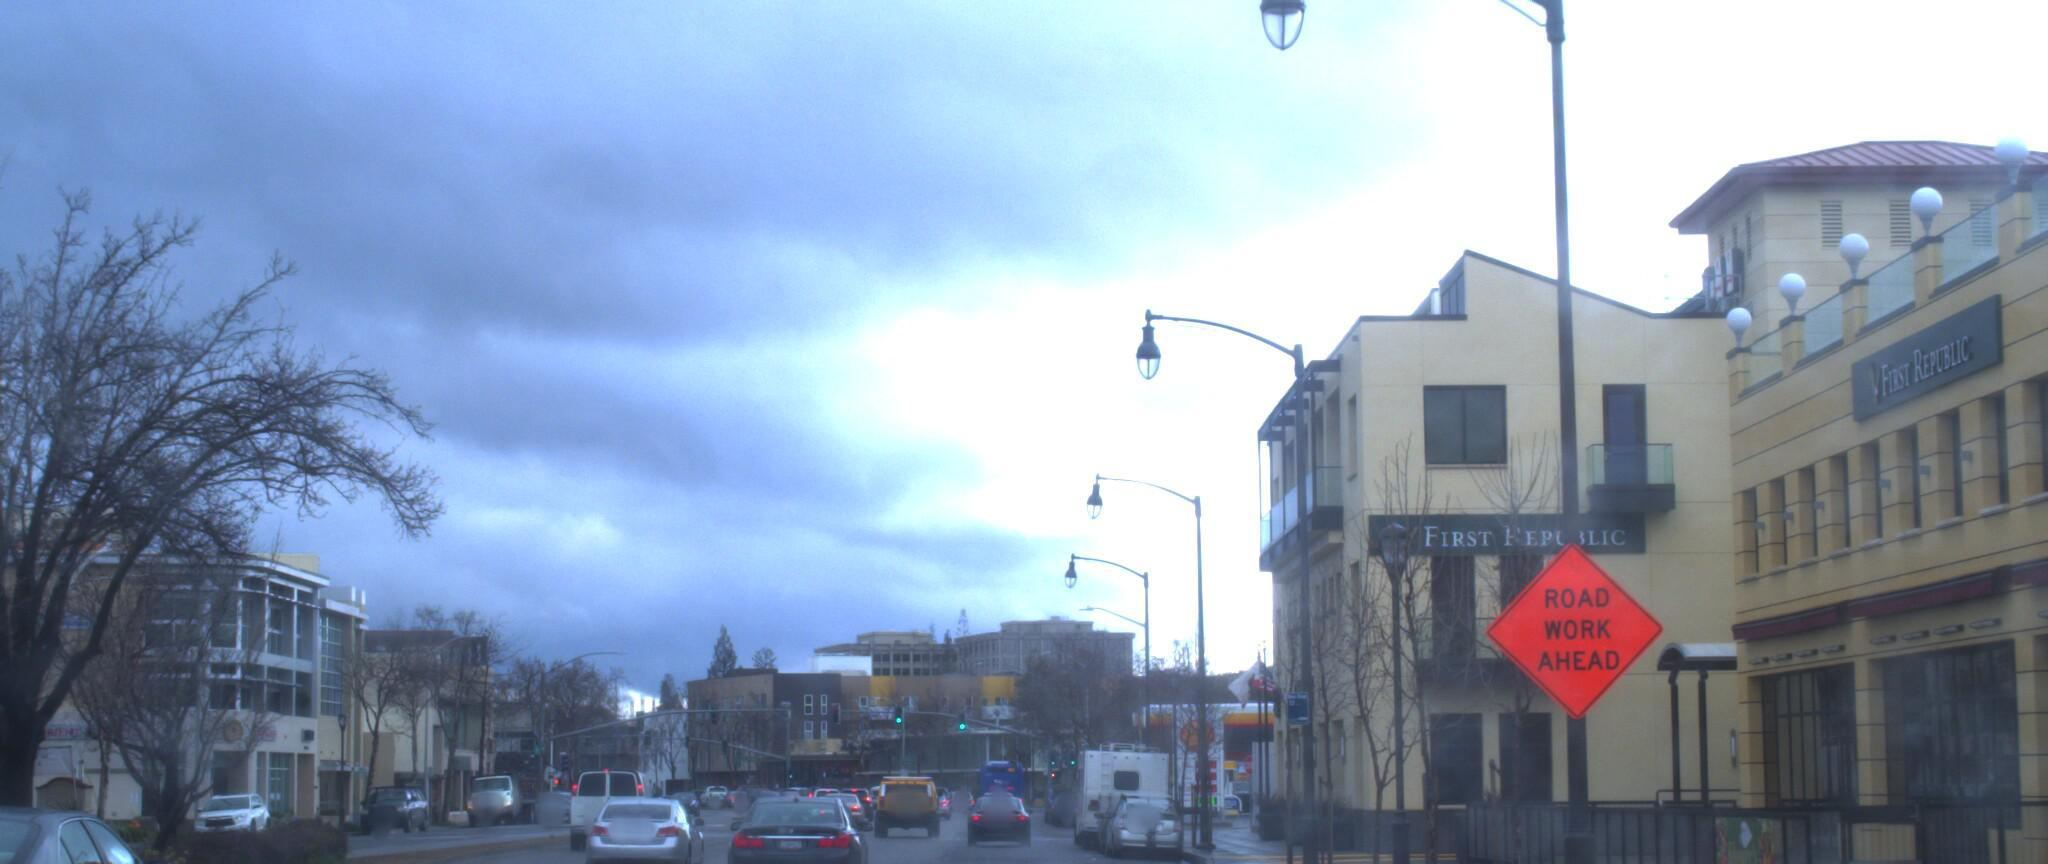car: (569, 775, 713, 864), (722, 779, 871, 864), (583, 760, 682, 852), (1106, 770, 1183, 841)
